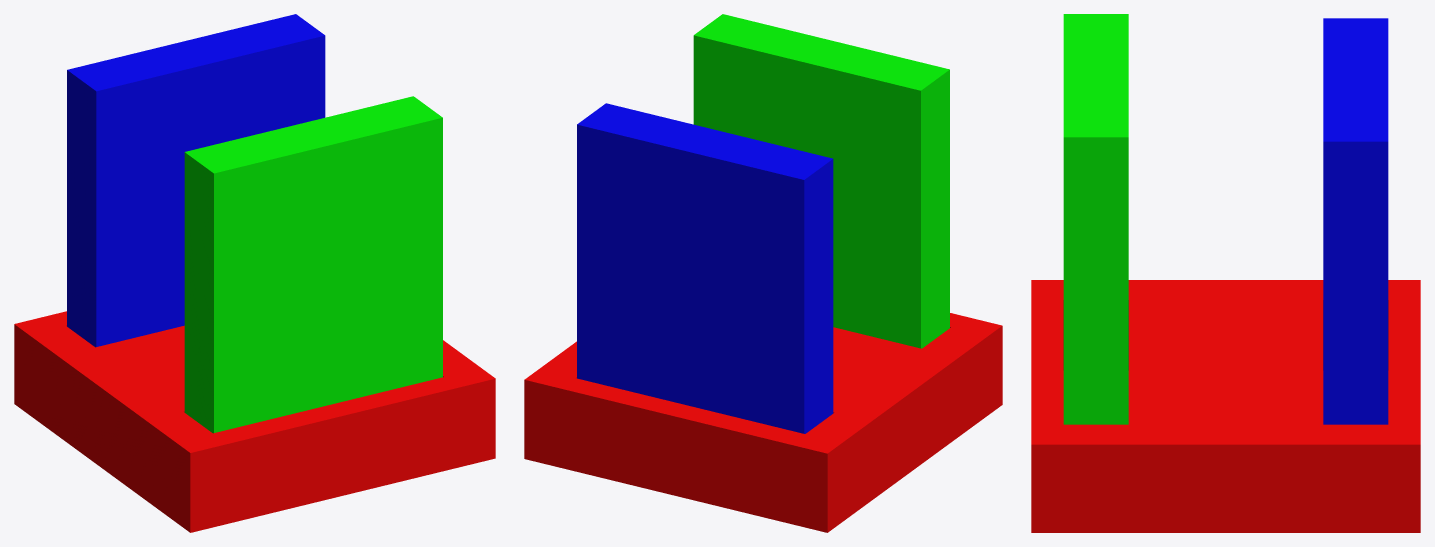
File: RGB_Stool2.fbx
The picture shows the model from 3 angles, left to right: view 1: azimuth 30°, elevation 25°; view 2: azimuth 150°, elevation 25°; view 3: azimuth 270°, elevation 25°; orthographic projection. The views are drawn at different scales.
Parts seen in each view (by area): view 1: Leg2, Base, Leg1; view 2: Leg1, Base, Leg2; view 3: Base, Leg2, Leg1.
Part boxes in pixels (bbox=[...]): Leg2: bbox=[184, 96, 442, 433]; Base: bbox=[14, 311, 495, 532]; Leg1: bbox=[67, 14, 325, 347]; Leg1: bbox=[577, 103, 833, 433]; Base: bbox=[524, 313, 1002, 532]; Leg2: bbox=[693, 14, 949, 348]; Base: bbox=[1031, 280, 1420, 532]; Leg2: bbox=[1063, 14, 1128, 424]; Leg1: bbox=[1323, 18, 1388, 424].
Bounding box in the file's own units: 60 × 63.73 × 60.
